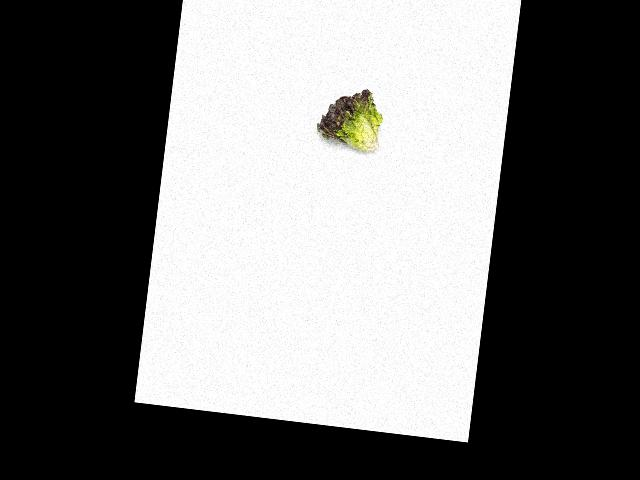lettuce: (310, 84, 388, 153)
